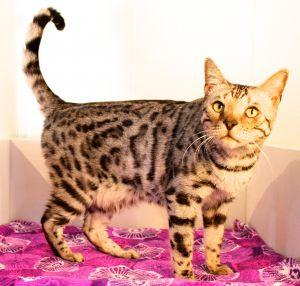bengal: (192, 51, 293, 154)
